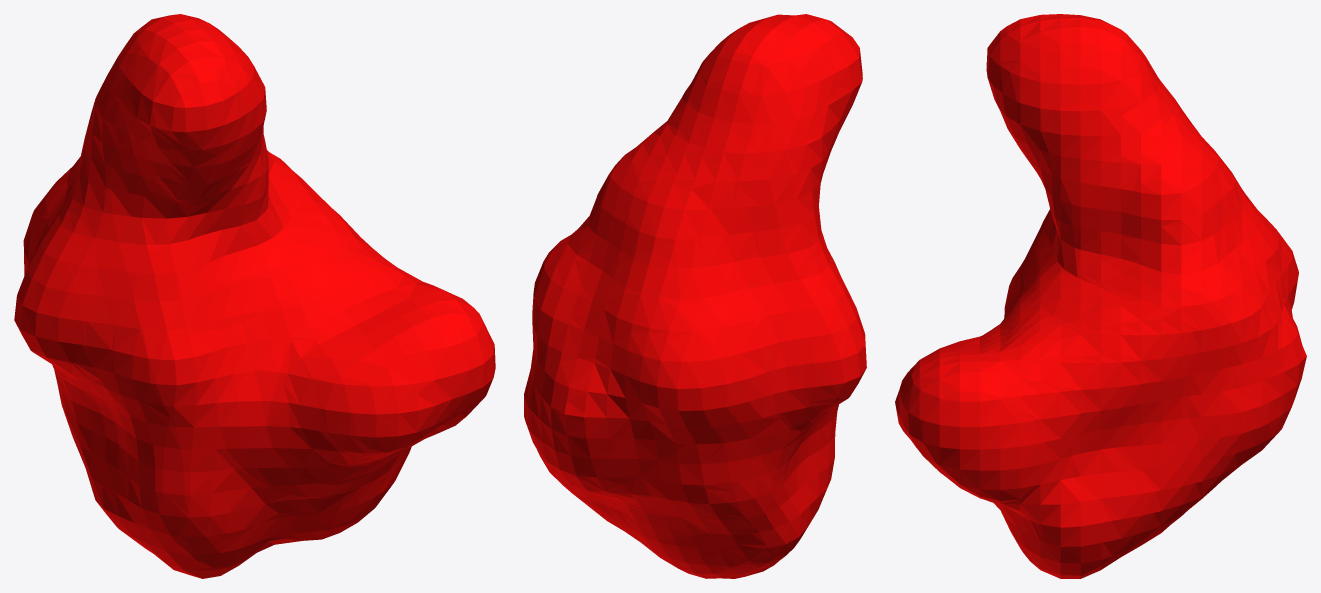
The model's file is rsfS_coarse.dae.
3 views of the same model, side by side, from view 1: azimuth 30°, elevation 25°; view 2: azimuth 150°, elevation 25°; view 3: azimuth 270°, elevation 25° (orthographic). The views are drawn at different scales.
Parts seen in each view (by area): view 1: rsfS; view 2: rsfS; view 3: rsfS.
Boxes of the visible parts, <box> form: rsfS: <box>14,14,495,578</box>; rsfS: <box>524,14,866,578</box>; rsfS: <box>895,14,1306,578</box>.
Size of the model in its own units: 35.81 by 51.48 by 37.52.
